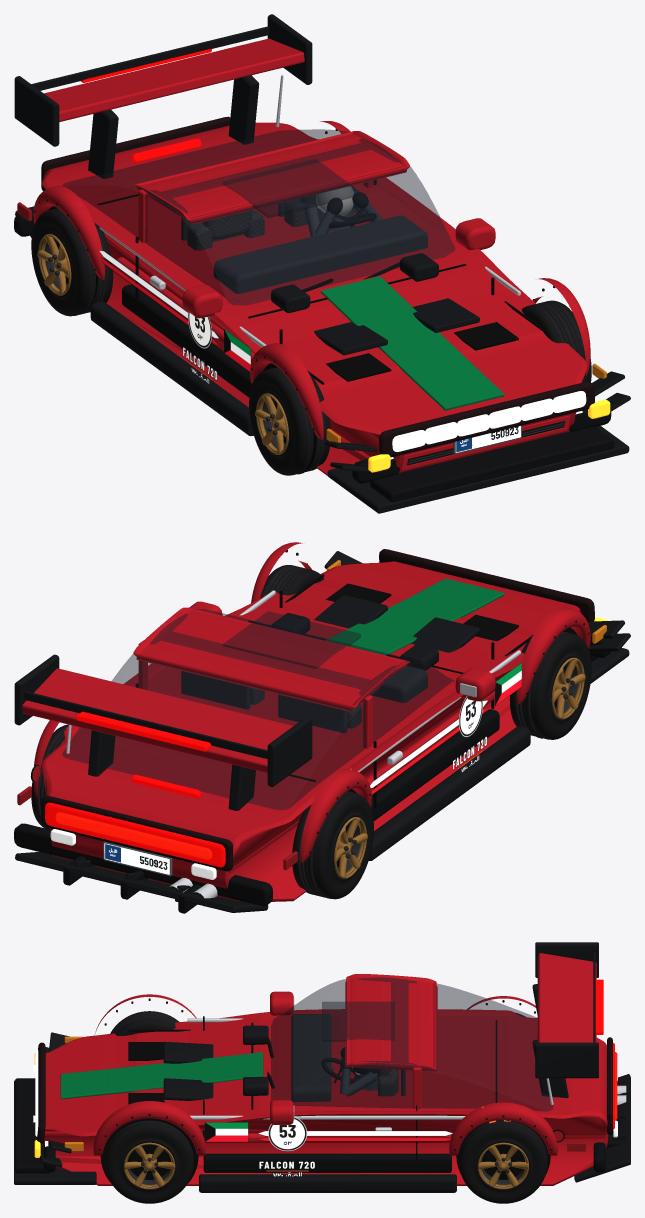
The model's file is falcon-720.glb.
The picture shows the model from 3 angles, top to bottom: view 1: azimuth 30°, elevation 25°; view 2: azimuth 150°, elevation 25°; view 3: azimuth 270°, elevation 25°; orthographic projection. The views are drawn at different scales.
Visible parts, largest first — view 1: object 1, object 2, wing, object 3, object 130, object 121, object 28, object 174, object 32, object 64, object 165, object 108 (+27 smaller); view 2: object 1, object 2, wing, object 3, tail-lamps, object 174, object 64, object 28, object 32, object 108, object 98, object 176 (+33 smaller); view 3: object 1, object 2, wing, object 3, object 175, object 114, object 48, object 80, object 130, object 28, object 54, object 86 (+30 smaller).
Boxes of the visible parts, x1=… form: object 1: x1=41, y1=122, x2=586, y2=475; object 2: x1=62, y1=129, x2=455, y2=305; wing: x1=14, y1=14, x2=312, y2=146; object 3: x1=133, y1=131, x2=409, y2=224; object 130: x1=213, y1=215, x2=427, y2=293; object 121: x1=370, y1=426, x2=614, y2=502; object 28: x1=223, y1=159, x2=360, y2=217; object 174: x1=90, y1=301, x2=253, y2=435; object 32: x1=249, y1=367, x2=330, y2=475; object 64: x1=31, y1=208, x2=113, y2=316; object 165: x1=327, y1=426, x2=629, y2=513; object 108: x1=122, y1=284, x2=251, y2=397; object 1: x1=41, y1=561, x2=581, y2=901; object 2: x1=62, y1=609, x2=454, y2=810; wing: x1=14, y1=654, x2=312, y2=786; object 3: x1=133, y1=607, x2=409, y2=711; tail-lamps: x1=41, y1=795, x2=232, y2=871; object 174: x1=368, y1=726, x2=530, y2=860; object 64: x1=292, y1=791, x2=373, y2=899; object 28: x1=222, y1=611, x2=360, y2=668; object 32: x1=509, y1=632, x2=591, y2=739; object 108: x1=371, y1=709, x2=499, y2=820; object 98: x1=14, y1=823, x2=272, y2=906; object 176: x1=15, y1=852, x2=268, y2=912; object 1: x1=42, y1=1009, x2=608, y2=1185; object 2: x1=271, y1=977, x2=553, y2=1111; wing: x1=535, y1=942, x2=603, y2=1078; object 3: x1=345, y1=974, x2=437, y2=1071; object 175: x1=199, y1=1174, x2=456, y2=1192; object 114: x1=203, y1=1153, x2=451, y2=1172; object 48: x1=105, y1=1120, x2=193, y2=1203; object 80: x1=459, y1=1121, x2=547, y2=1203; object 130: x1=291, y1=1014, x2=331, y2=1102; object 28: x1=322, y1=1001, x2=394, y2=1041; object 54: x1=93, y1=1101, x2=205, y2=1155; object 86: x1=449, y1=1102, x2=557, y2=1155.
Size of the model in its own units: 2.09 by 1.25 by 4.54.
47 materials, 10 textured.
